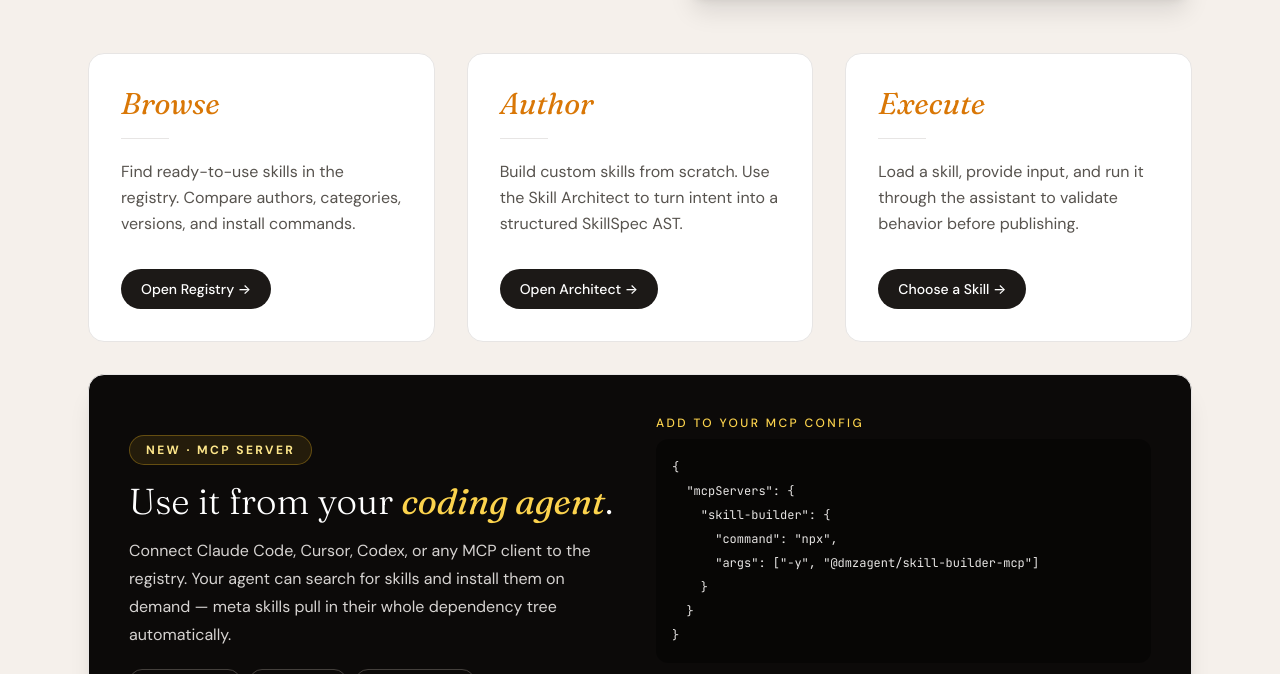
Scenario: App › Navigation › opens architect from Author card
(page scrolled)
Click the button "Open Architect →" at (579, 289), box 500,269 -> 658,309
(page scrolled)
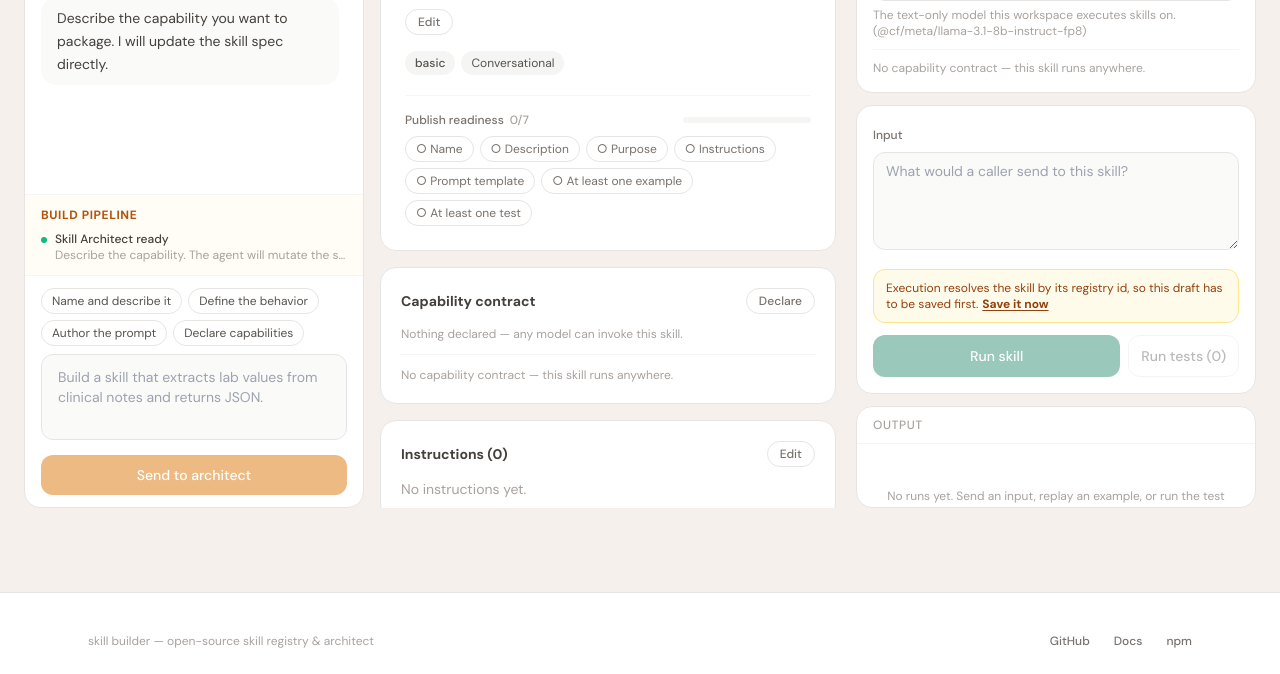
Expected: the text box with placeholder "Build a skill that extracts" is shown, 41,354 -> 347,440
